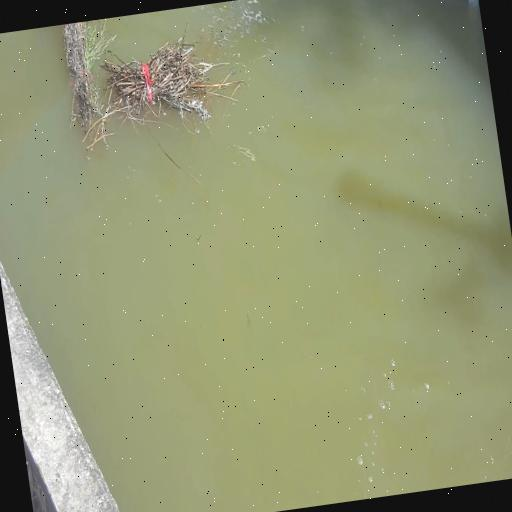twig: (96, 20, 252, 146), (52, 20, 130, 142)
